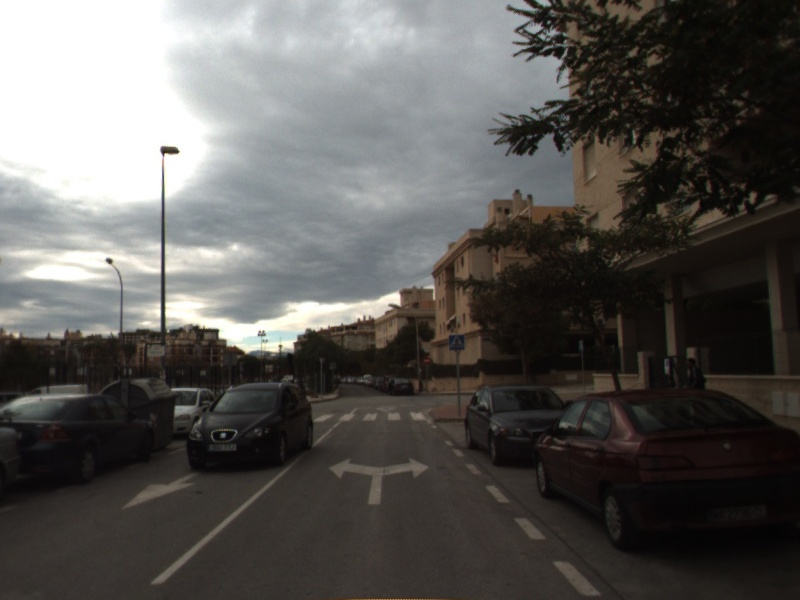LEFT_RIGHT: (326, 454, 431, 507)
